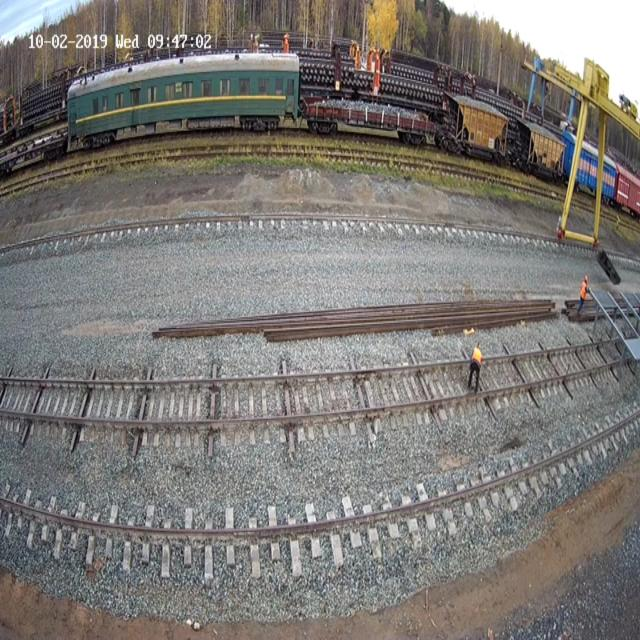Person: (467, 341, 483, 393), (577, 275, 588, 315)
